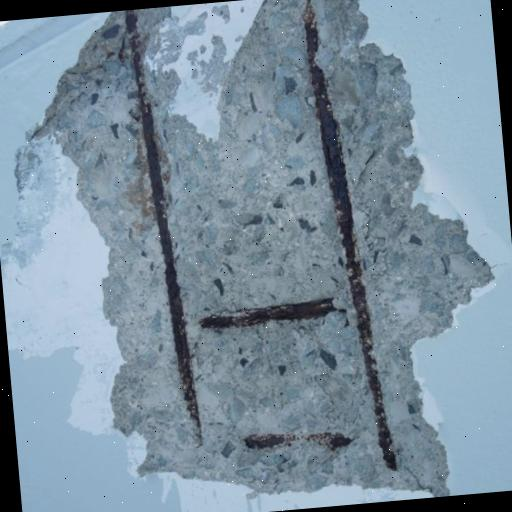spalling: (16, 0, 493, 494)
